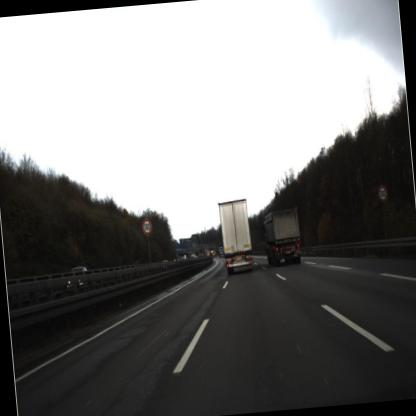prohibitory: (139, 213, 154, 240), (374, 182, 391, 204)
